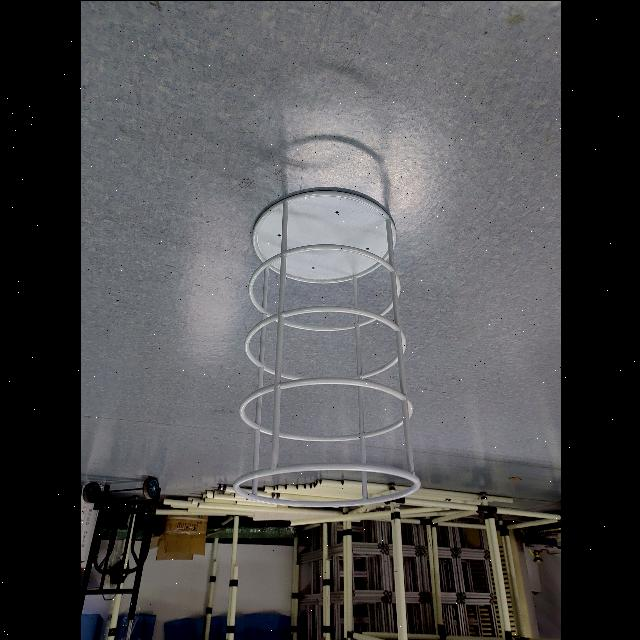S: (228, 184, 420, 512)
